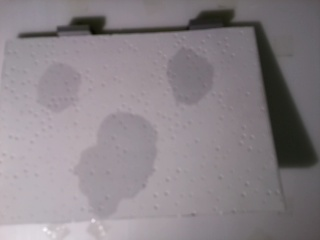Water_detected: (95, 129, 161, 195), (176, 54, 207, 95), (53, 75, 88, 111)
